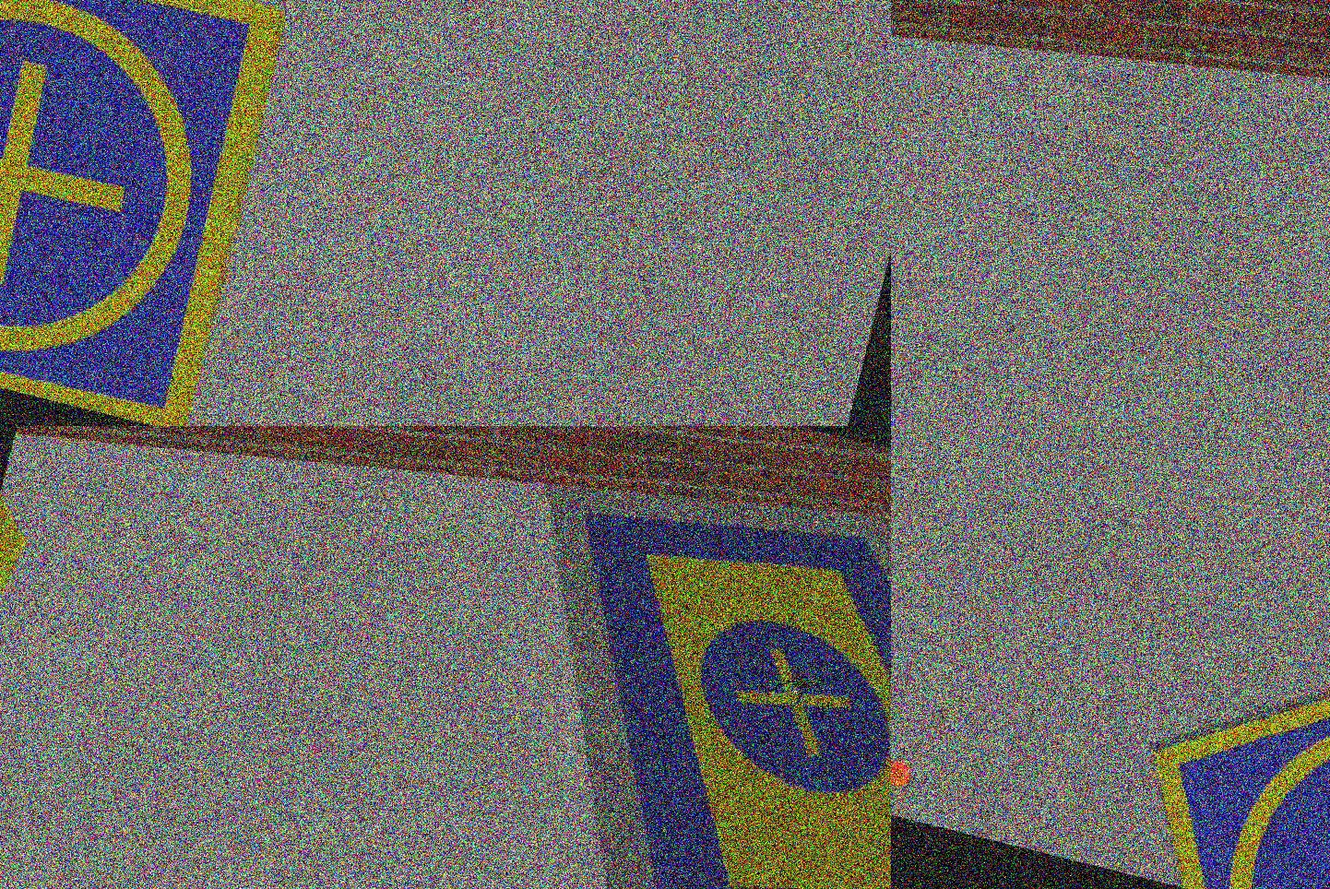large_base: (482, 468, 892, 889)
small_base: (1, 1, 290, 426), (1122, 561, 1330, 889)
